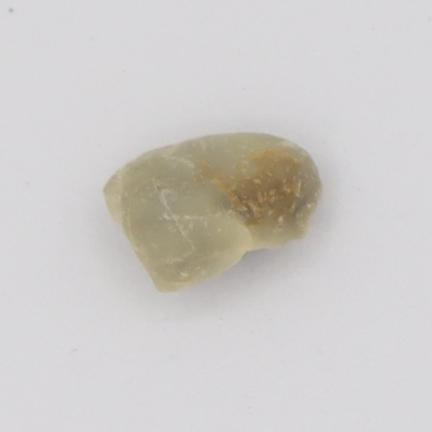broken: (104, 133, 321, 291)
